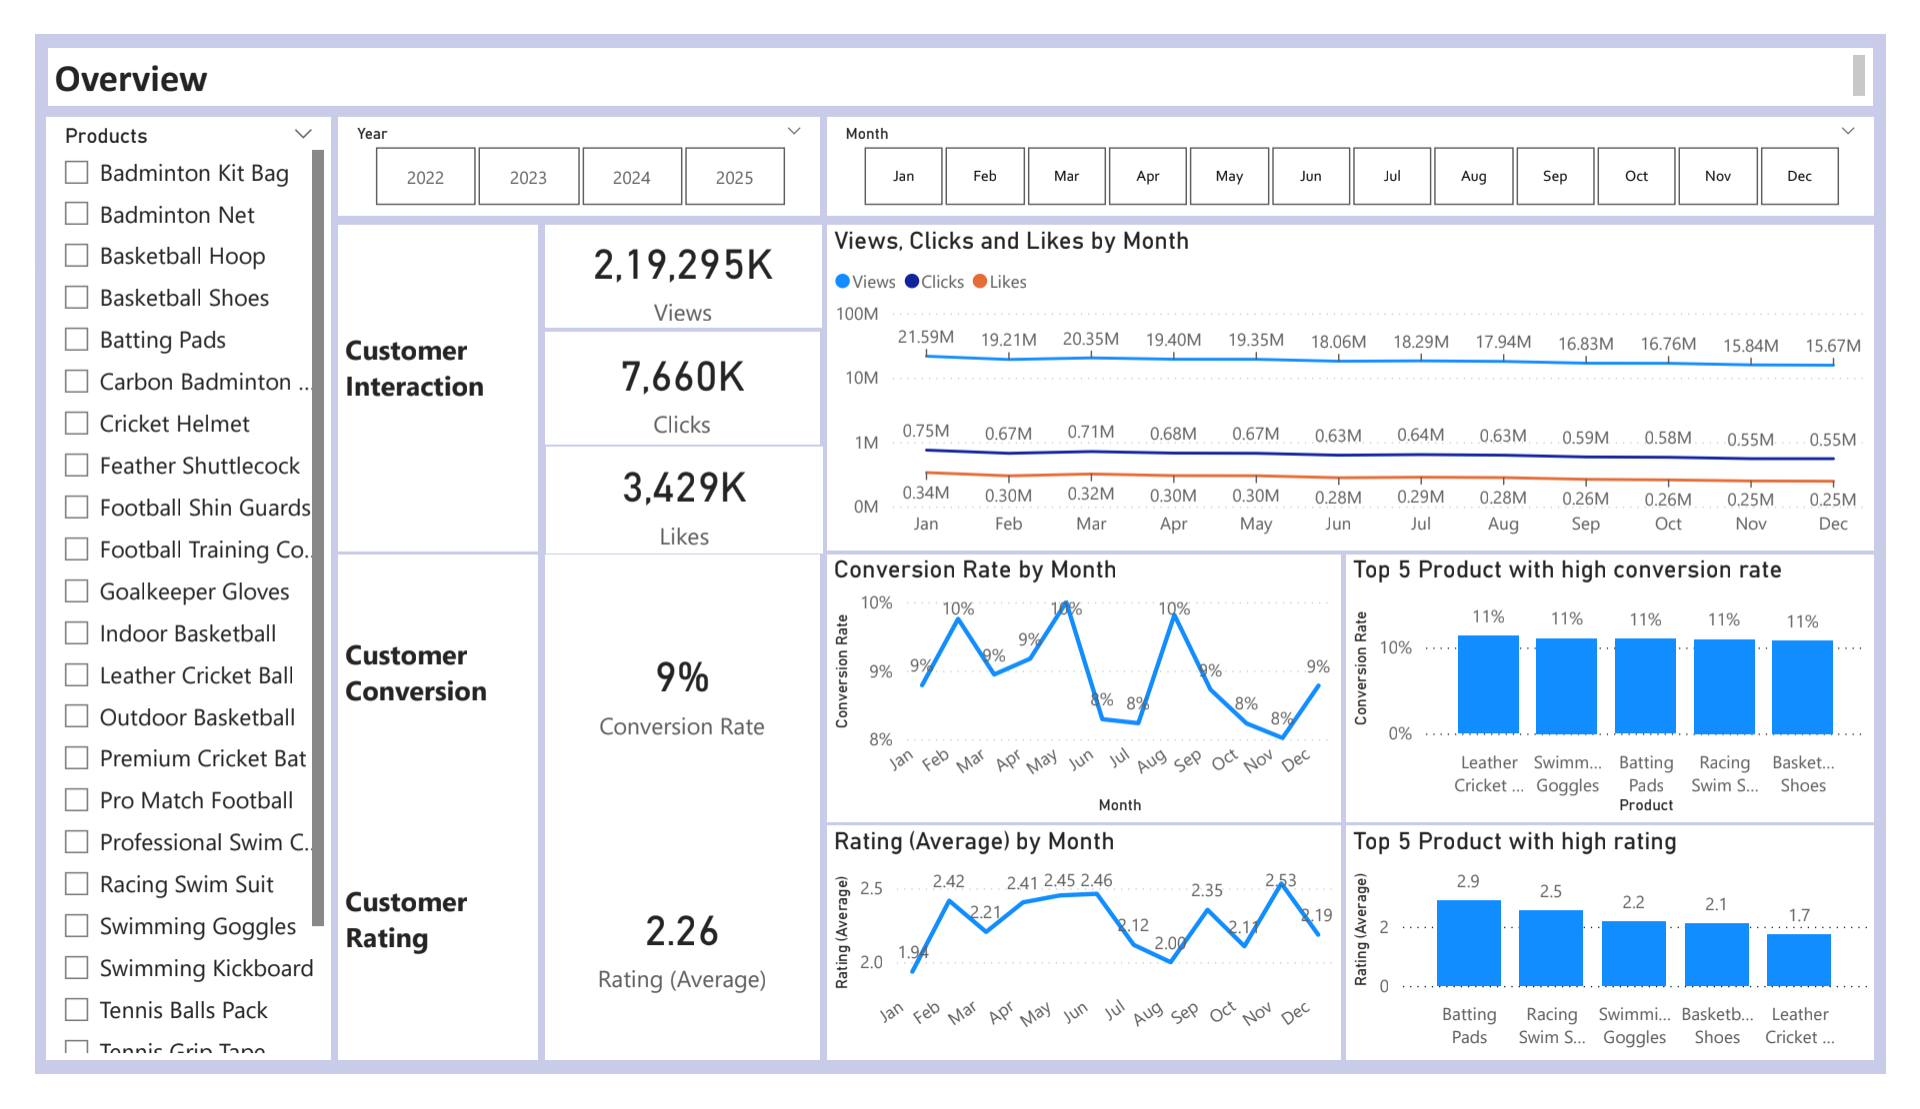

The dashboard page shown, as its layout file describes it:
{"tool":"powerbi","page":{"name":"Overview","canvas":[1280,720],"ordinal":0},"visuals":[{"type":"textbox","box":[8.8,8.8,1262.5,40],"z":0},{"type":"columnChart","title":"Top 5 Product with high conversion rate","fields":{"Y":["Calculations.Conversion Rate"],"Category":["Product_master_data.P_Name"]},"box":[906.7,360,365,185],"z":0},{"type":"slicer","fields":{"Values":["Product_master_data.P_Name"]},"box":[8.3,56.7,196.7,653.3],"z":1000},{"type":"textbox","box":[210,131.7,138.2,226.7],"z":2000},{"type":"slicer","fields":{"Values":["Calendar.Year"]},"box":[210,56.7,333.3,68.3],"z":3000},{"type":"textbox","box":[209.6,360.1,138.3,186.7],"z":3000},{"type":"textbox","box":[210,548.3,138.3,161.7],"z":3000},{"type":"columnChart","title":"Top 5 Product with high rating","fields":{"Category":["Product_master_data.P_Name"],"Y":["Calculations.Rating (Average)"]},"box":[906.7,548.3,365,161.7],"z":3000},{"type":"slicer","fields":{"Values":["Calendar.MonthNameShort"]},"box":[548.3,56.7,723.3,68.3],"z":4000},{"type":"card","fields":{"Values":["Calculations.Rating Average"]},"box":[353.3,548.3,190,161.7],"z":4000},{"type":"card","fields":{"Values":["Calculations.Views"]},"box":[353.3,131.7,191.2,71.4],"z":5000,"group":"g1"},{"type":"lineChart","title":"Views, Clicks and Likes by Month","fields":{"Y":["Calculations.Views","Calculations.Clicks","Calculations.Likes"],"Category":["Calendar.MonthNameShort"]},"box":[548.3,131.7,723.3,225],"z":5000},{"type":"group","id":"g1","title":"Group 1","box":[353.3,131.7,191.7,226.7],"z":6000},{"type":"card","fields":{"Values":["Calculations.Likes"]},"box":[354.1,284.8,190.8,73.5],"z":6000,"group":"g1"},{"type":"card","fields":{"Values":["Calculations.Clicks"]},"box":[353.3,205.6,190.2,77.6],"z":7000,"group":"g1"},{"type":"lineChart","fields":{"Category":["Calendar.MonthNameShort"],"Y":["Calculations.Rating (Average)"]},"box":[548.3,548.3,355,161.7],"z":7000},{"type":"card","fields":{"Values":["Calculations.Conversion Rate"]},"box":[353.3,360,190,186.7],"z":8000},{"type":"lineChart","fields":{"Category":["Calendar.MonthNameShort"],"Y":["Calculations.Conversion Rate"]},"box":[548.3,360,355,185],"z":8001}]}

Visuals, with their boxes in screenshot pixels (x1, y1, x2, y2), scaled from the page's 1280x720 canvas onto the 1920x1109 screenshot:
textbox: [13, 14, 1907, 75]
"Top 5 Product with high conversion rate" columnChart: [1360, 554, 1908, 839]
slicer - Product_master_data.P_Name: [12, 87, 308, 1094]
textbox: [315, 203, 522, 552]
slicer - Calendar.Year: [315, 87, 815, 193]
textbox: [314, 555, 522, 842]
textbox: [315, 845, 522, 1094]
"Top 5 Product with high rating" columnChart: [1360, 845, 1908, 1094]
slicer - Calendar.MonthNameShort: [822, 87, 1907, 193]
card - Calculations.Rating Average: [530, 845, 815, 1094]
card - Calculations.Views: [530, 203, 817, 313]
"Views, Clicks and Likes by Month" lineChart: [822, 203, 1907, 549]
"Group 1" group: [530, 203, 818, 552]
card - Calculations.Likes: [531, 439, 817, 552]
card - Calculations.Clicks: [530, 317, 815, 436]
lineChart - Calendar.MonthNameShort x Calculations.Rating (Average): [822, 845, 1355, 1094]
card - Calculations.Conversion Rate: [530, 554, 815, 842]
lineChart - Calendar.MonthNameShort x Calculations.Conversion Rate: [822, 554, 1355, 839]
